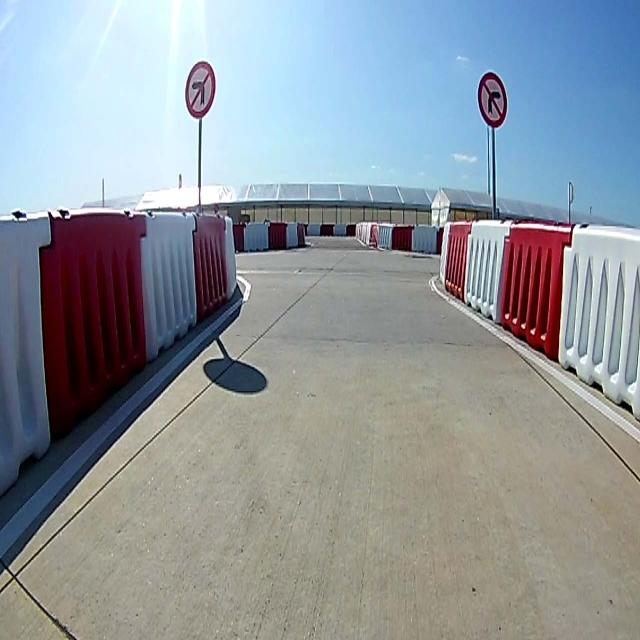sagadonulmez: (477, 68, 507, 132)
soladonulmez: (187, 59, 213, 118)
